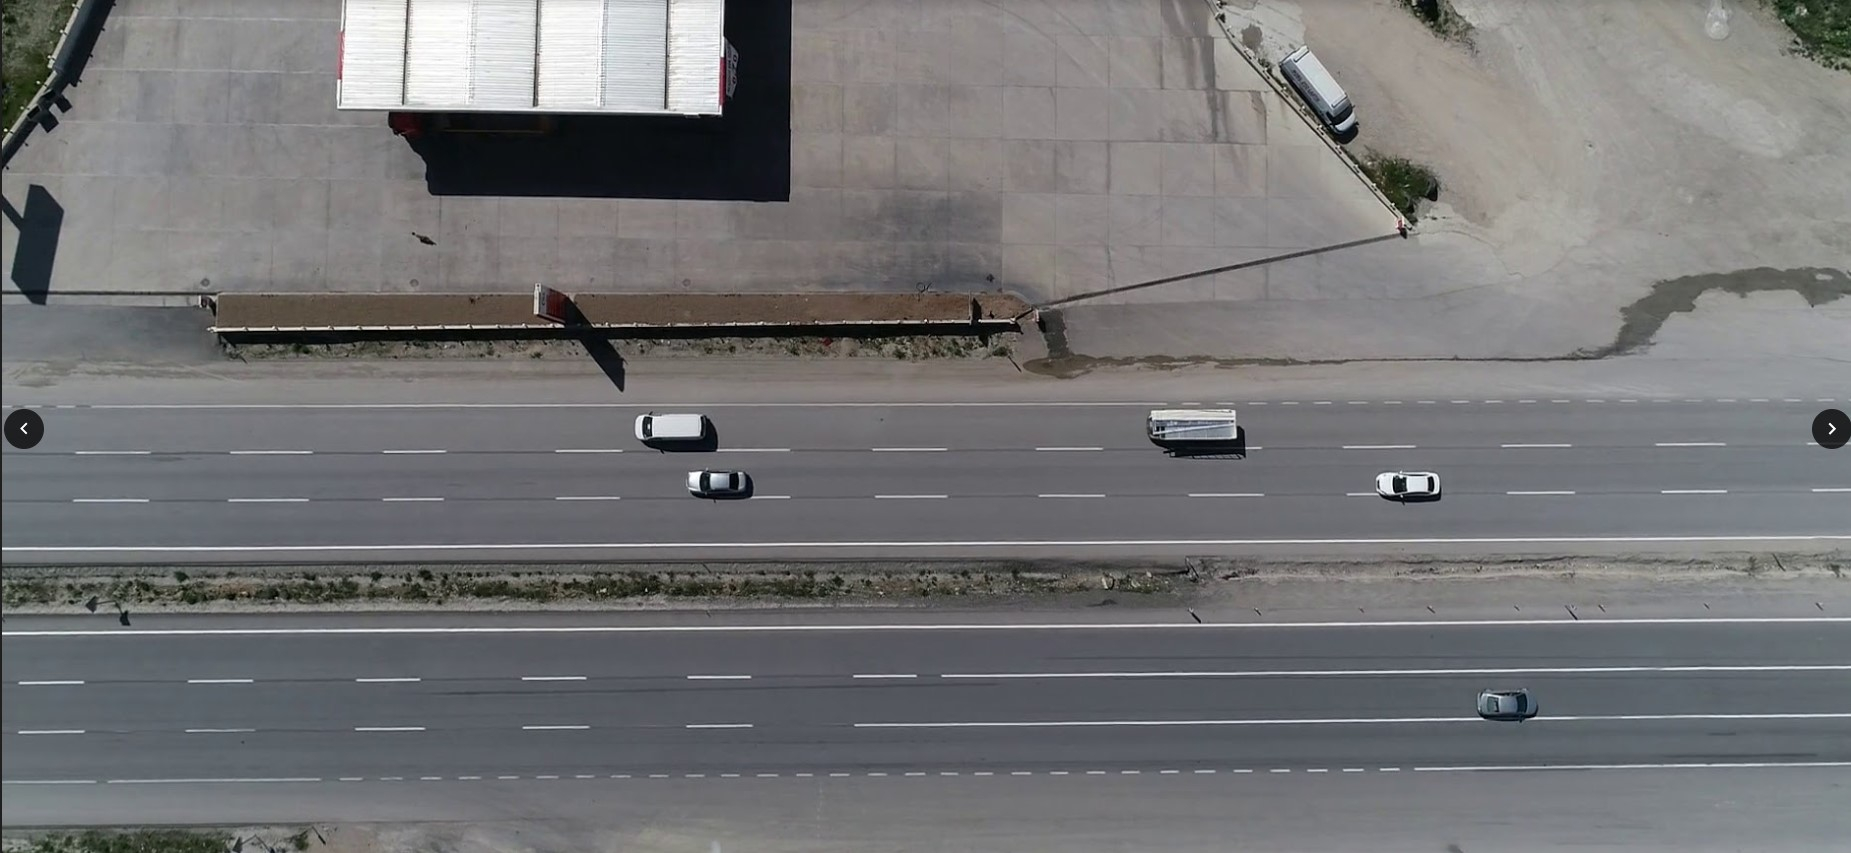araba: (1287, 42, 1363, 143), (633, 412, 714, 447), (681, 466, 750, 499), (1376, 470, 1444, 503), (1477, 685, 1541, 719)
